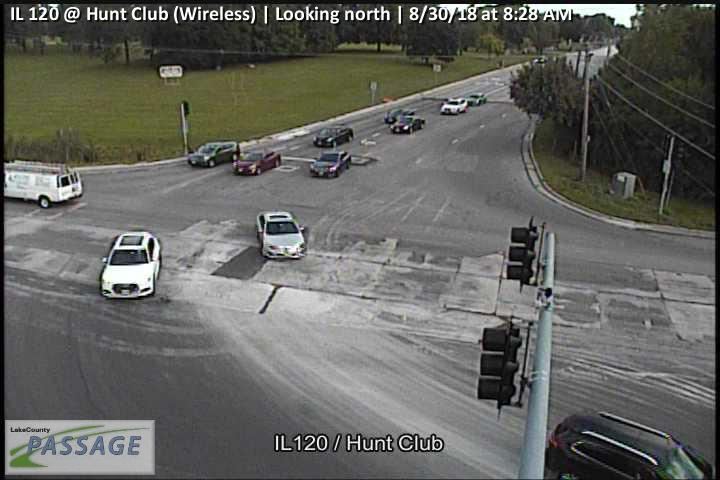SUV: (544, 407, 713, 480), (1, 159, 84, 208)
Sedan: (97, 230, 161, 299), (255, 210, 307, 259), (186, 139, 239, 166), (309, 148, 352, 179), (233, 149, 283, 175), (310, 125, 355, 146), (388, 114, 427, 134), (439, 96, 469, 116), (384, 107, 417, 123), (466, 90, 487, 106)
